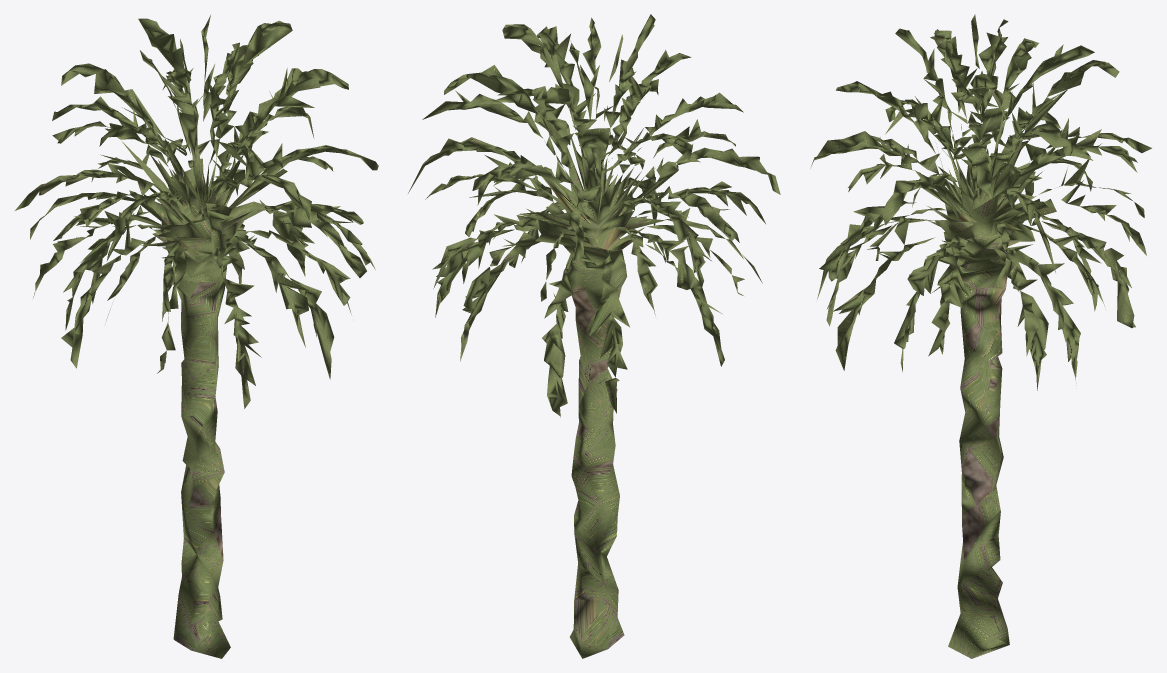
Rendered from palm.glb.
3 renders of one model, left to right at view 1: azimuth 30°, elevation 25°; view 2: azimuth 150°, elevation 25°; view 3: azimuth 270°, elevation 25°, orthographic.
Visible parts, largest first — view 1: Mesh_0; view 2: Mesh_0; view 3: Mesh_0.
Part boxes in pixels (left/top/right/bottom): Mesh_0: left=15, top=15, right=378, bottom=658; Mesh_0: left=408, top=14, right=780, bottom=658; Mesh_0: left=810, top=14, right=1151, bottom=658.
Size of the model in its own units: 4.46 by 8.74 by 4.36.
1 material, 1 textured.
